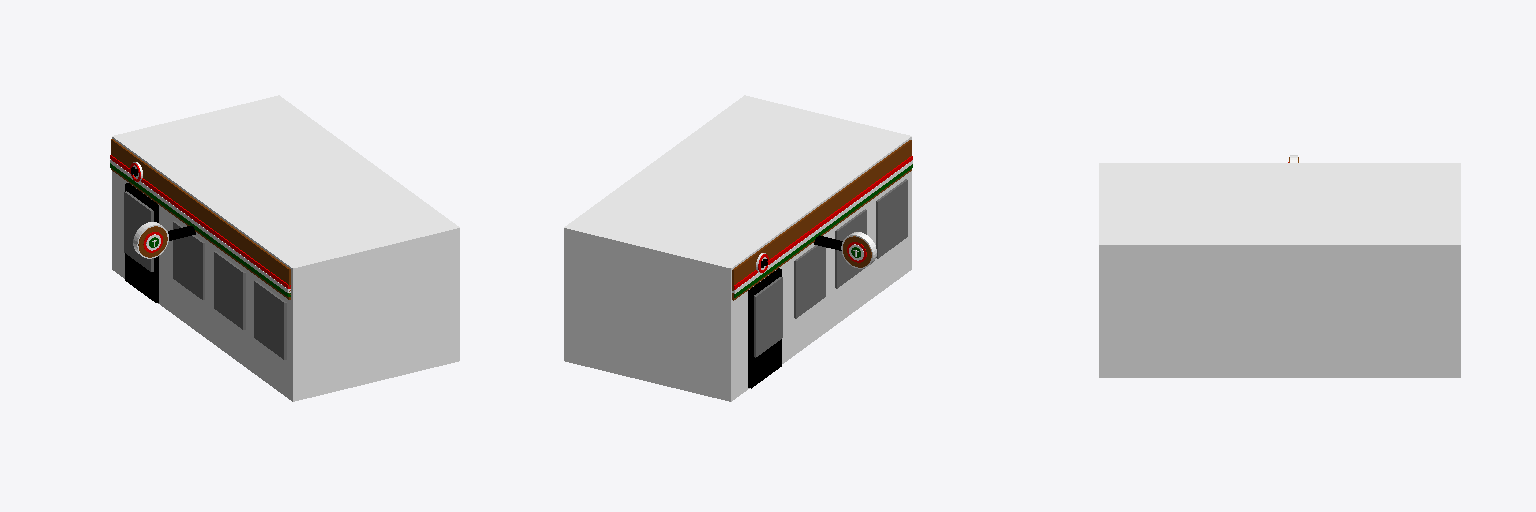
File: nemzeti_dohanybolt.obj
3 views of the same model, side by side, from view 1: azimuth 30°, elevation 25°; view 2: azimuth 150°, elevation 25°; view 3: azimuth 270°, elevation 25° (orthographic).
Parts seen in each view (by area): view 1: Box01, Box07, Box06, Box05, Box04, Box02, Box03, Box13, Box11, Box12; view 2: Box01, Box07, Box06, Box04, Box03, Box02, Box05, Box13, Box11, Box12; view 3: Box01.
Boxes of the visible parts, x1,y1,x2,y2 form: Box01: [112, 95, 459, 401]; Box07: [111, 139, 290, 299]; Box06: [254, 281, 286, 359]; Box05: [214, 251, 245, 329]; Box04: [173, 221, 204, 299]; Box02: [125, 183, 158, 302]; Box03: [124, 191, 153, 271]; Box13: [110, 155, 290, 288]; Box11: [110, 163, 290, 296]; Box12: [110, 159, 290, 292]; Box01: [564, 95, 911, 401]; Box07: [732, 140, 911, 300]; Box06: [876, 179, 907, 258]; Box04: [794, 245, 825, 318]; Box03: [754, 277, 782, 357]; Box02: [748, 268, 781, 388]; Box05: [835, 209, 866, 288]; Box13: [734, 156, 912, 289]; Box11: [734, 164, 912, 297]; Box12: [732, 160, 912, 293]; Box01: [1099, 163, 1460, 377].
Bounding box in the file's own units: 8.87 × 4.97 × 12.22.